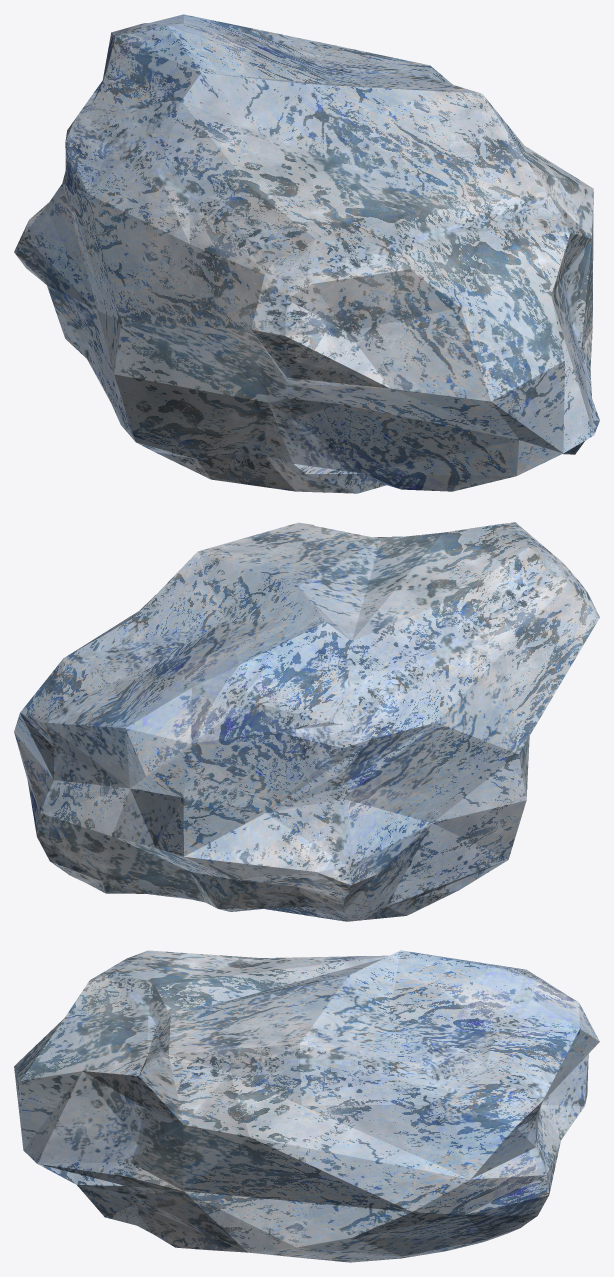
File: asteroid_ice_small_s01_l0.fbx
3 views of the same model, one above another, from view 1: azimuth 30°, elevation 25°; view 2: azimuth 150°, elevation 25°; view 3: azimuth 270°, elevation 25° (orthographic). The views are drawn at different scales.
Visible parts, largest first — view 1: mesh_node; view 2: mesh_node; view 3: mesh_node.
Boxes of the visible parts, <box> form: mesh_node: <box>14,14,599,493</box>; mesh_node: <box>14,522,599,921</box>; mesh_node: <box>14,950,599,1262</box>.
Bounding box in the file's own units: 17.3 × 11.78 × 25.13.
Materials: 1 (1 with a texture image).
